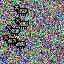sheep: (12, 37, 26, 50), (15, 18, 30, 30), (5, 25, 20, 37), (3, 35, 18, 47), (14, 5, 28, 16)
